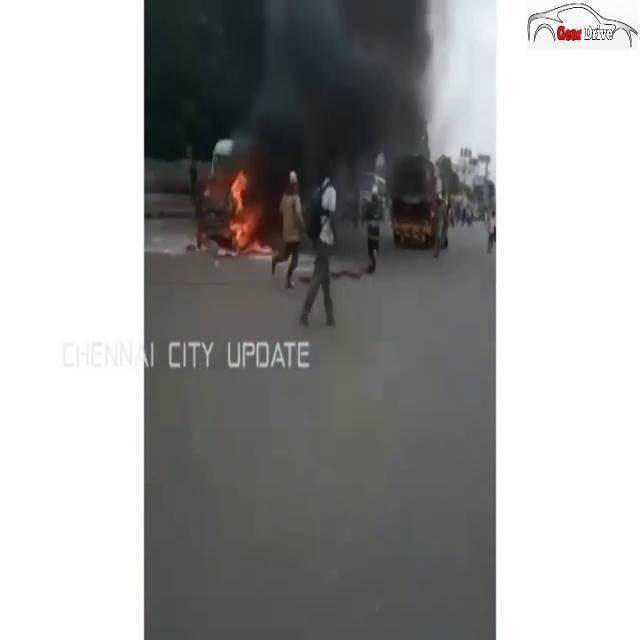Fire: (219, 164, 271, 258)
Smoke: (224, 2, 446, 194)
